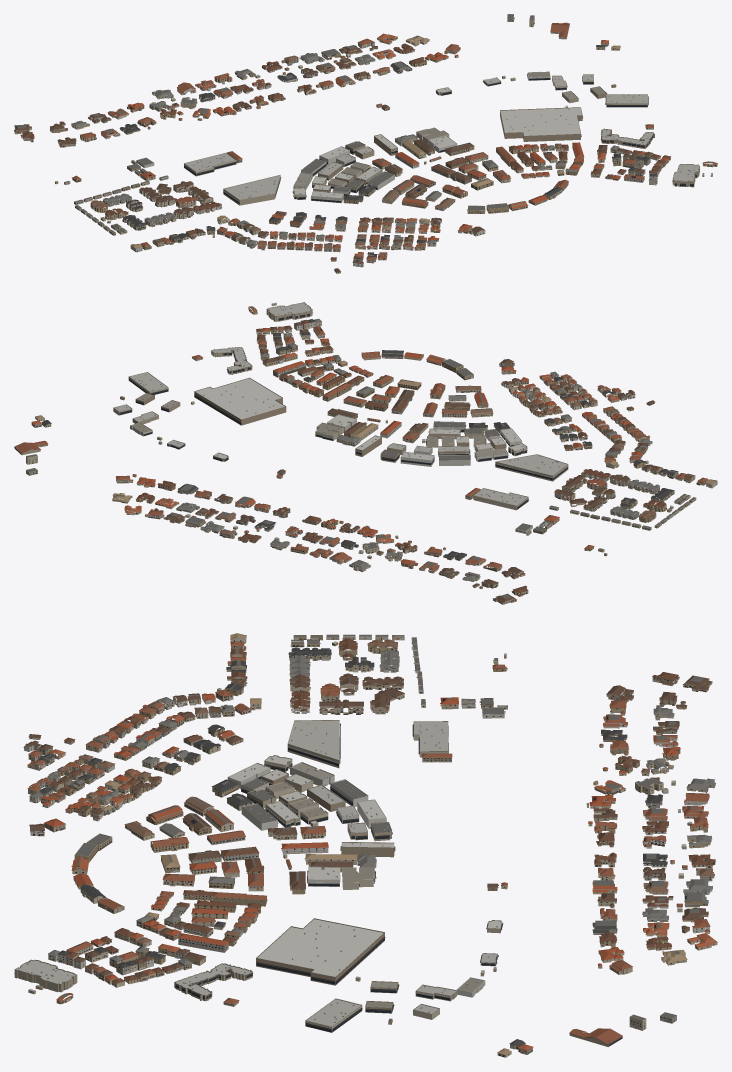
3 renders of one model, top to bottom at view 1: azimuth 30°, elevation 25°; view 2: azimuth 150°, elevation 25°; view 3: azimuth 270°, elevation 25°, orthographic. The views are drawn at different scales.
Parts seen in each view (by area): view 1: buildings_r3_c3_lod0; view 2: buildings_r3_c3_lod0; view 3: buildings_r3_c3_lod0.
Boxes of the visible parts, <box> form: buildings_r3_c3_lod0: <box>14,14,717,273</box>; buildings_r3_c3_lod0: <box>14,302,717,604</box>; buildings_r3_c3_lod0: <box>14,633,717,1057</box>.
Size of the model in its own units: 1122 by 33.02 by 815.
